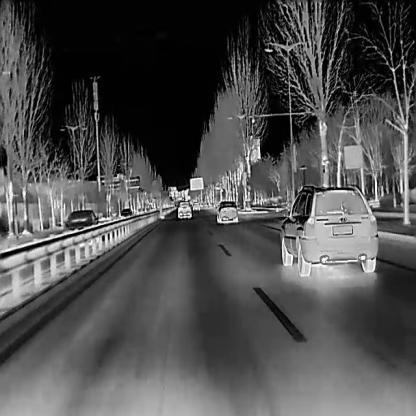car: (279, 181, 378, 276), (63, 208, 98, 237), (216, 198, 237, 223), (176, 199, 191, 218), (120, 208, 131, 220), (191, 201, 200, 210)
